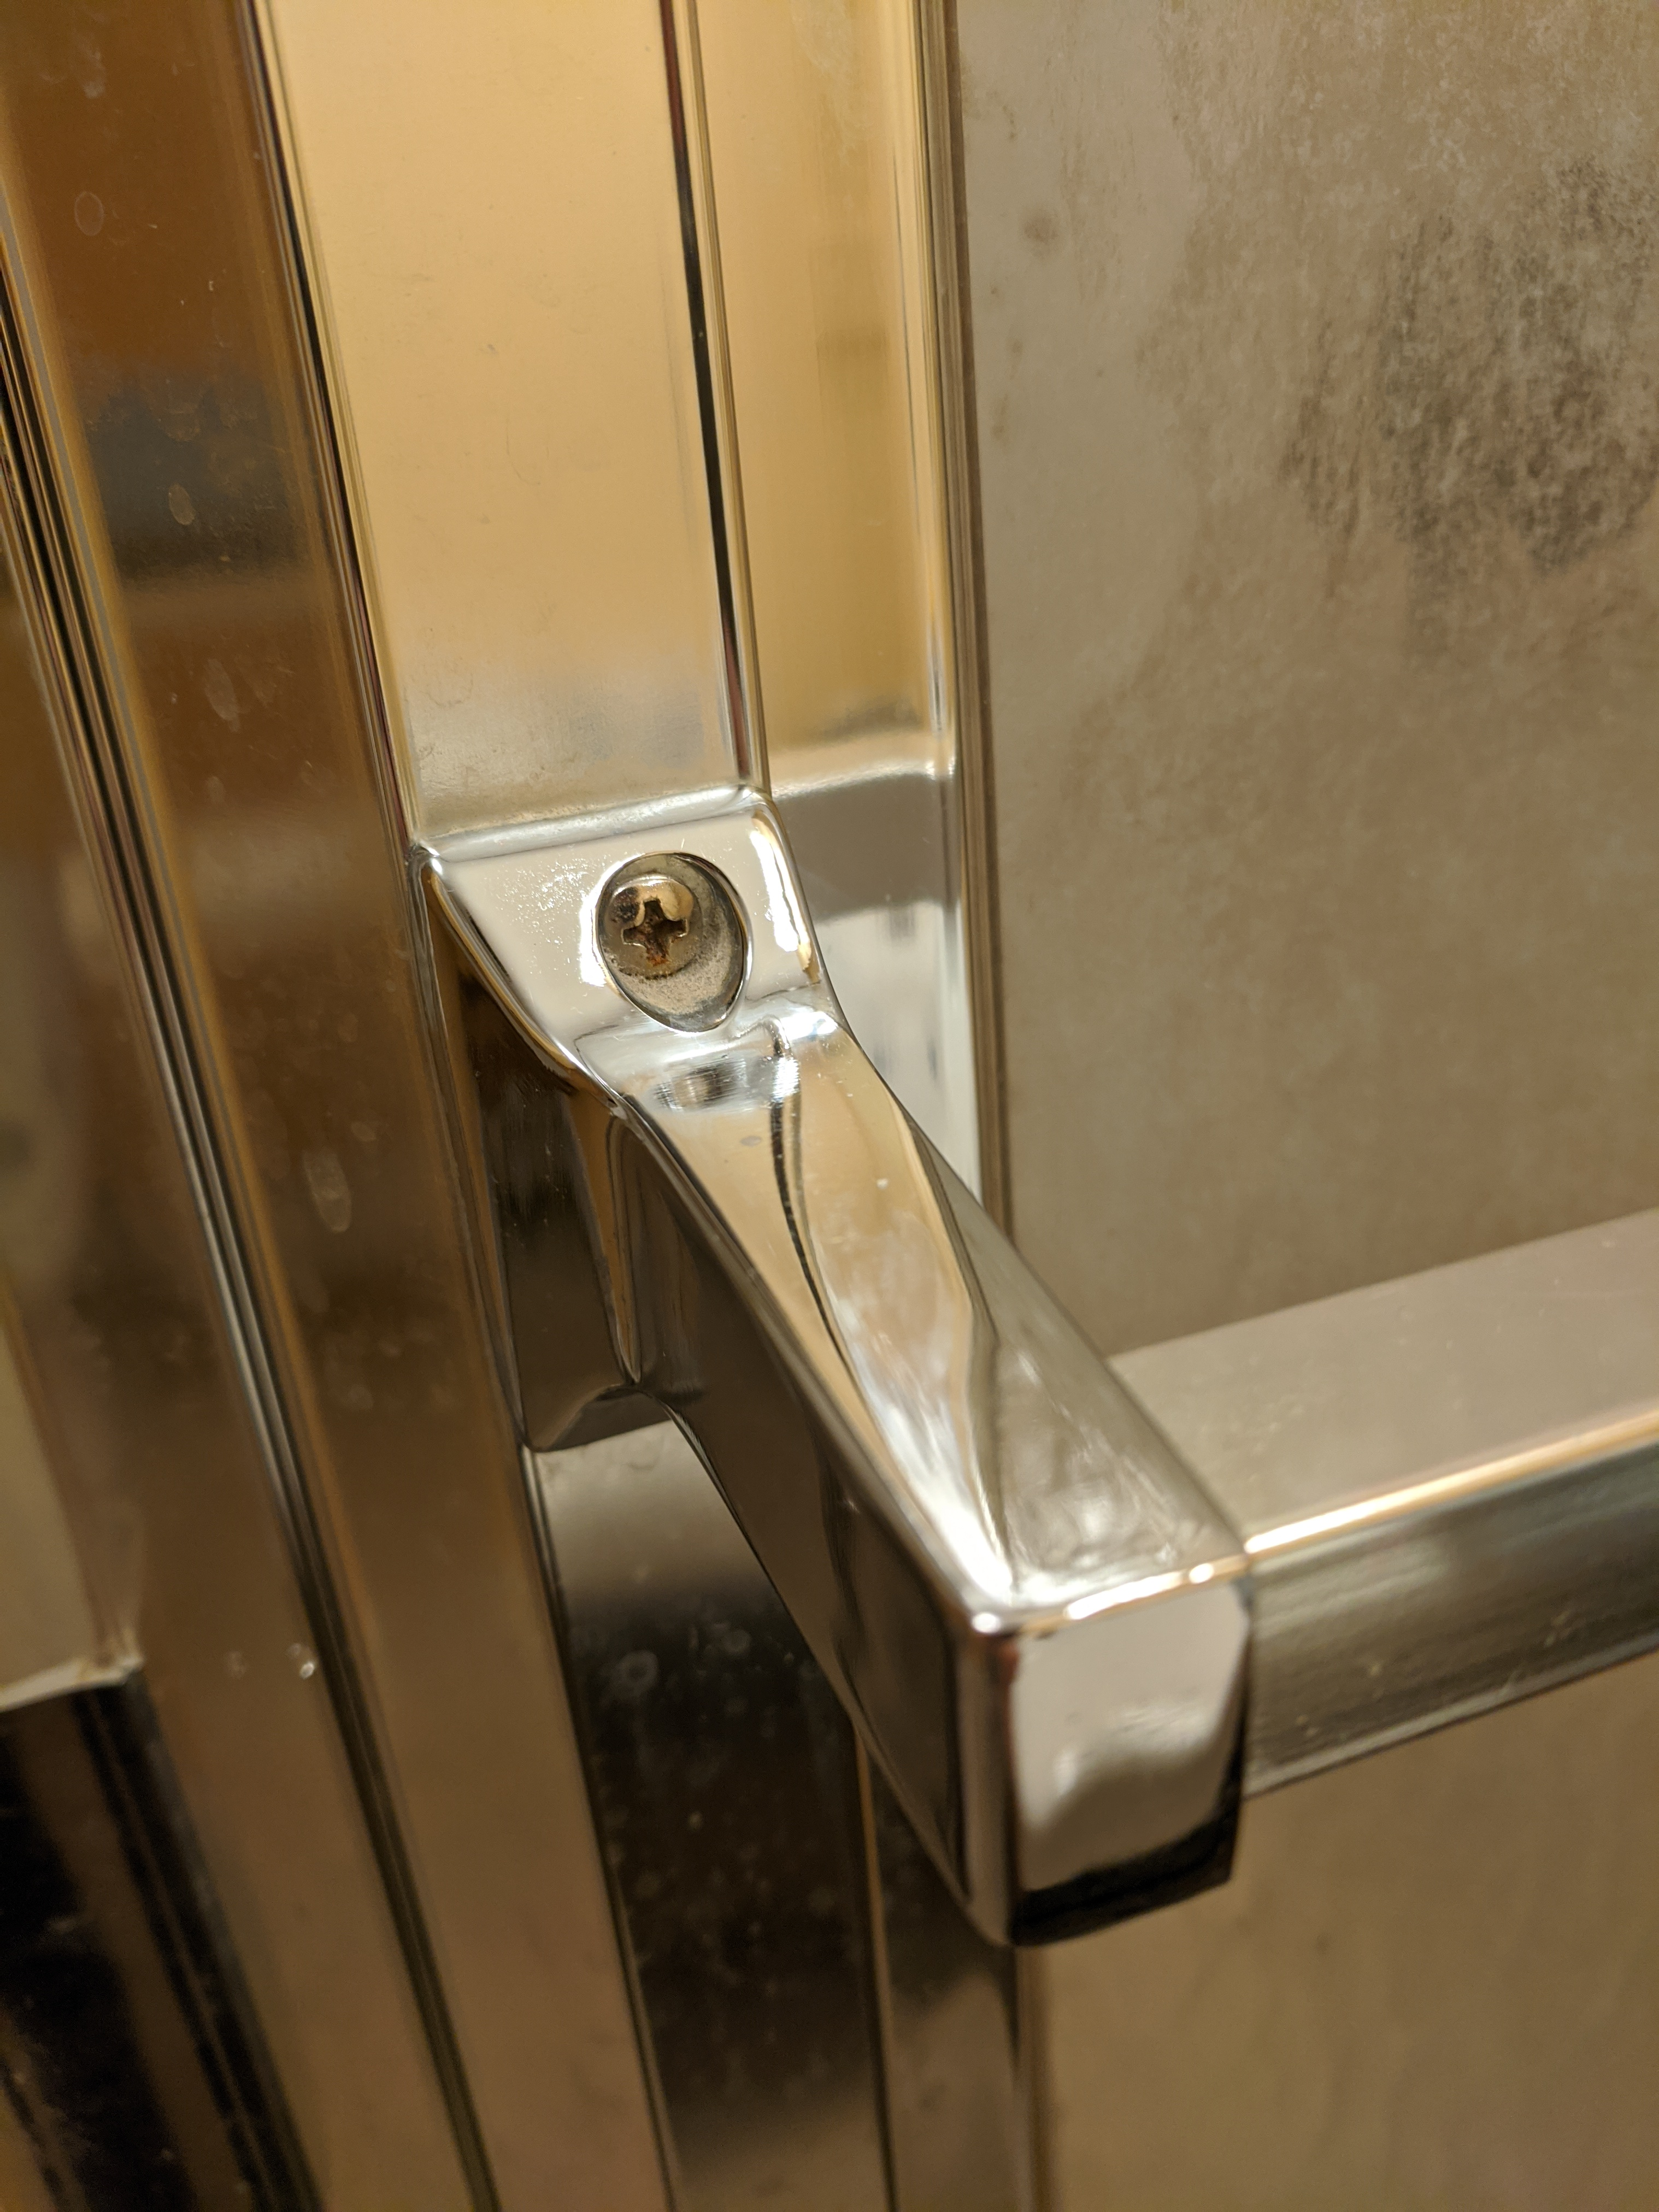cross_recessed_screw: (594, 841, 730, 996)
